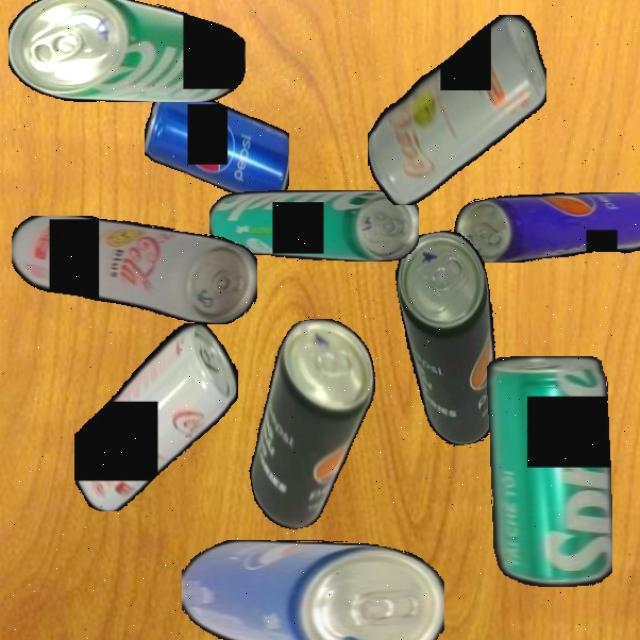debris: (225, 310, 399, 535), (367, 14, 546, 205), (73, 322, 238, 511), (486, 356, 612, 587), (389, 225, 515, 451), (11, 216, 257, 324), (181, 540, 444, 640), (8, 0, 245, 102), (144, 82, 289, 205), (208, 190, 419, 262), (454, 192, 640, 262)
